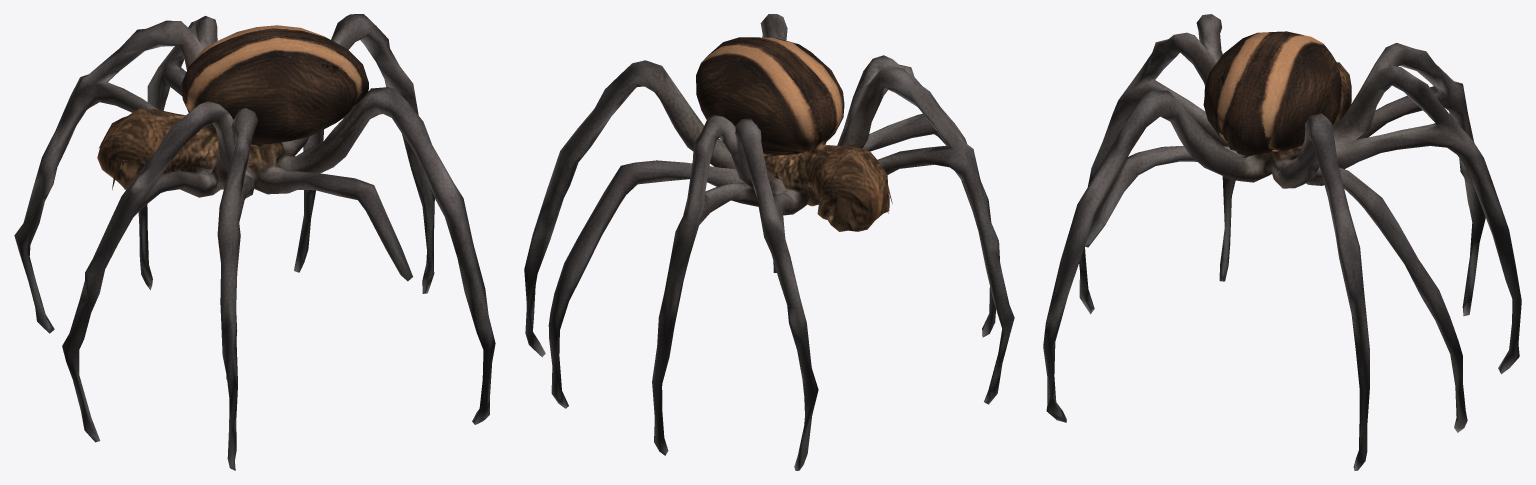
File: spider.glb
3 views of the same model, side by side, from view 1: azimuth 30°, elevation 25°; view 2: azimuth 150°, elevation 25°; view 3: azimuth 270°, elevation 25° (orthographic). The views are drawn at different scales.
Parts seen in each view (by area): view 1: Creature; view 2: Creature; view 3: Creature.
Part boxes in pixels (<box>): Creature: <box>14,14,495,470</box>; Creature: <box>524,14,1014,470</box>; Creature: <box>1043,14,1521,470</box>.
Bounding box in the file's own units: 1.69 × 1.25 × 1.6.
Materials: 1 (1 with a texture image).
